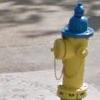Hydrant: (42, 1, 100, 100)
